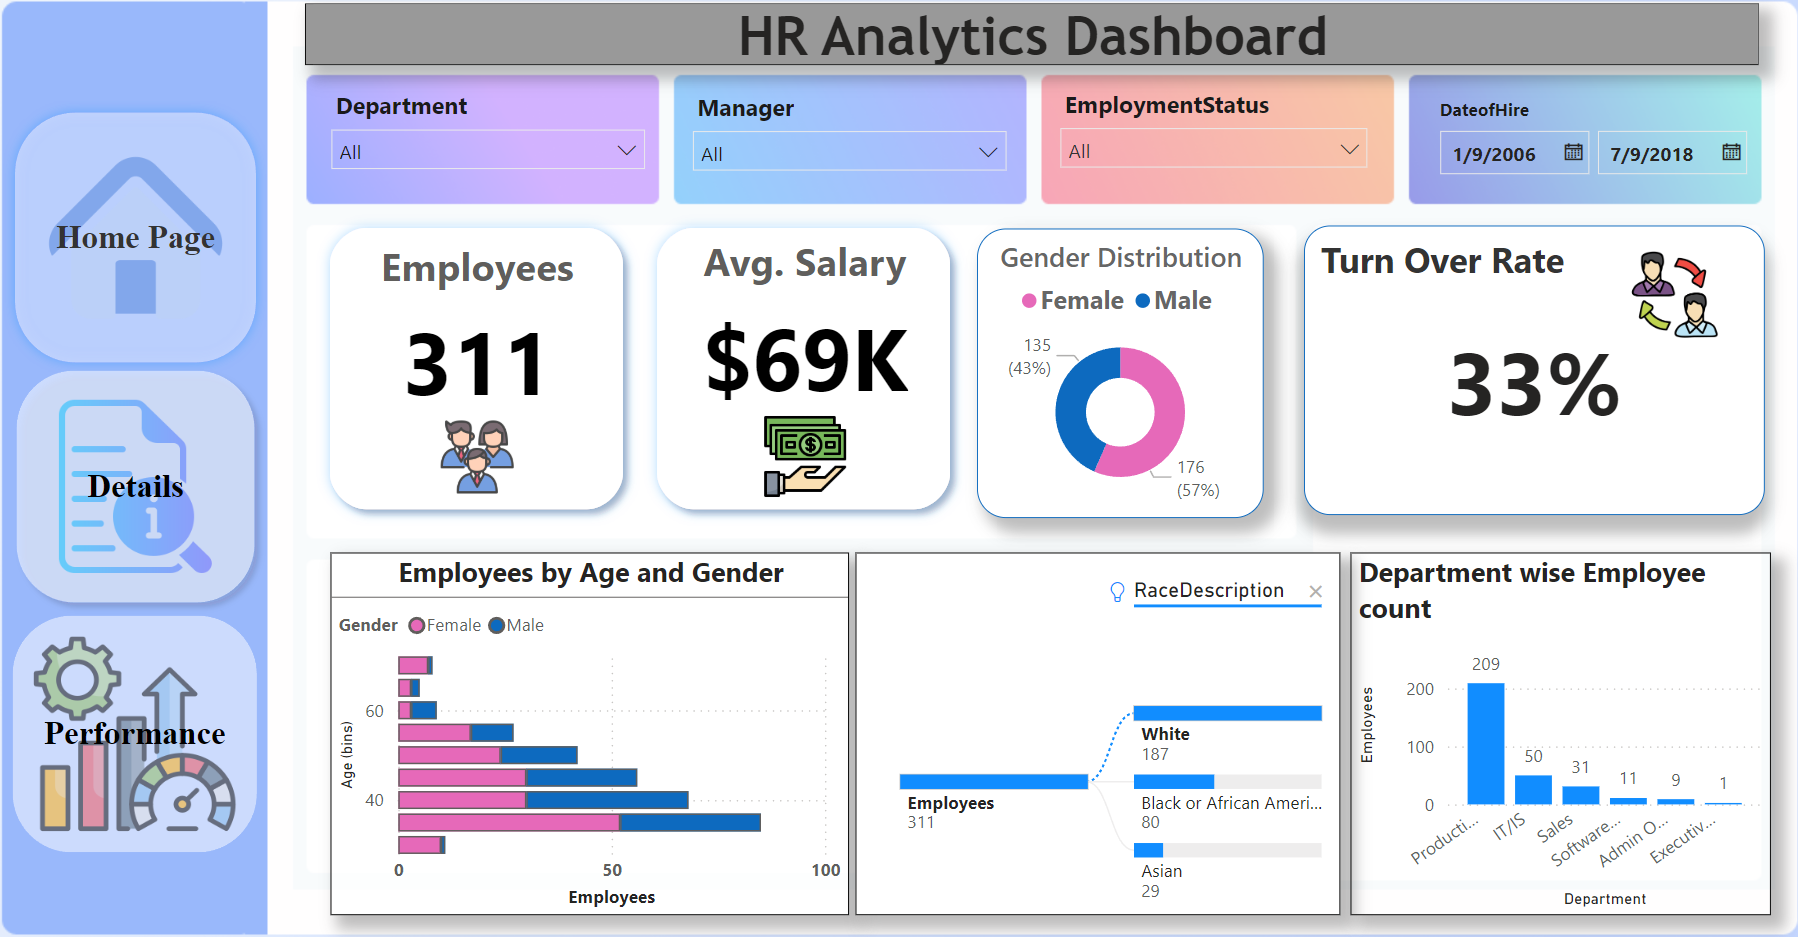

The page's visual inventory and layout, read from the dashboard file:
{"tool":"powerbi","page":{"name":"HR Sheet1","canvas":[1280,720],"ordinal":0},"visuals":[{"type":"card","title":"Turn Over Rate","fields":{"Values":["HRDataset_v14.TurnoverRate"]},"box":[937.6,194.4,319.1,200.6],"z":0},{"type":"cardVisual","fields":{"Data":["HRDataset_v14.Headcount","HRDataset_v14.Avg. Salary"]},"box":[245.3,178.8,465.7,229.7],"z":1000},{"type":"donutChart","title":"Gender Distribution","fields":{"Y":["HRDataset_v14.Headcount"],"Category":["HRDataset_v14.Gender"]},"box":[711,196.5,198.5,200.6],"z":2000},{"type":"barChart","title":"Employees by Age and Gender","fields":{"Category":["HRDataset_v14.Age (bins)"],"Y":["HRDataset_v14.Headcount"],"Series":["HRDataset_v14.Gender"]},"box":[263,421,359.7,251.6],"z":3000},{"type":"clusteredColumnChart","title":"Department wise Employee count","fields":{"Category":["HRDataset_v14.Department"],"Y":["HRDataset_v14.Employees"]},"box":[969.8,421,291.1,251.6],"z":4000},{"type":"slicer","fields":{"Values":["HRDataset_v14.EmploymentStatus"]},"box":[758.8,93.6,232.8,79],"z":5000},{"type":"slicer","fields":{"Values":["HRDataset_v14.Department"]},"box":[253.6,94.6,237,78],"z":6000},{"type":"slicer","fields":{"Values":["HRDataset_v14.DateofHire"]},"box":[1018.7,100.8,233.9,78],"z":7000},{"type":"textbox","title":"HR Analytics Dashboard","box":[245.3,40.5,1007.3,42.6],"z":8000},{"type":"slicer","fields":{"Values":["HRDataset_v14.ManagerName"]},"box":[504.1,95.6,237,78],"z":9000},{"type":"image","box":[1156.9,173.6,74.8,136.2],"z":10000},{"type":"actionButton","box":[36.4,108.1,182.9,189.2],"z":11000},{"type":"actionButton","box":[36.4,285.9,182.9,178.8],"z":12000},{"type":"actionButton","box":[42.6,464.6,169.4,164.2],"z":13000},{"type":"decompositionTreeVisual","title":"Race Distribution by Department ","fields":{"ExplainBy":["HRDataset_v14.RaceDesc"],"Analyze":["HRDataset_v14.Position"]},"box":[626.8,421,335.8,251.6],"z":14000}]}

Visuals, with their boxes on the page's 1280x720 design canvas (x1, y1, x2, y2). These are canvas units, not pixel positions in the 1798x937 screenshot, which may show the page scaled, cropped or inside an application window:
"Turn Over Rate" card: Rect(938, 194, 1257, 395)
cardVisual - HRDataset_v14.Headcount x HRDataset_v14.Avg. Salary: Rect(245, 179, 711, 408)
"Gender Distribution" donutChart: Rect(711, 196, 910, 397)
"Employees by Age and Gender" barChart: Rect(263, 421, 623, 673)
"Department wise Employee count" clusteredColumnChart: Rect(970, 421, 1261, 673)
slicer - HRDataset_v14.EmploymentStatus: Rect(759, 94, 992, 173)
slicer - HRDataset_v14.Department: Rect(254, 95, 491, 173)
slicer - HRDataset_v14.DateofHire: Rect(1019, 101, 1253, 179)
"HR Analytics Dashboard" textbox: Rect(245, 40, 1253, 83)
slicer - HRDataset_v14.ManagerName: Rect(504, 96, 741, 174)
image: Rect(1157, 174, 1232, 310)
actionButton: Rect(36, 108, 219, 297)
actionButton: Rect(36, 286, 219, 465)
actionButton: Rect(43, 465, 212, 629)
"Race Distribution by Department " decompositionTreeVisual: Rect(627, 421, 963, 673)
